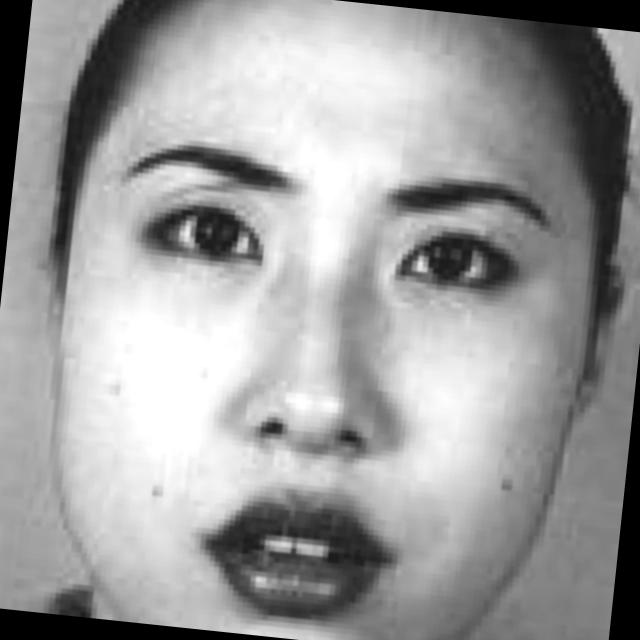fear: (54, 15, 584, 640)
